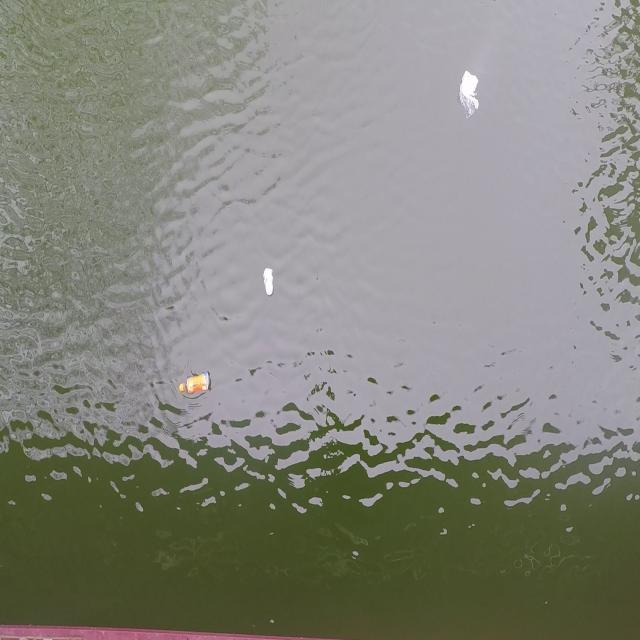Bouteille plastique: (176, 367, 215, 398)
Sac plastique: (457, 66, 483, 119)
